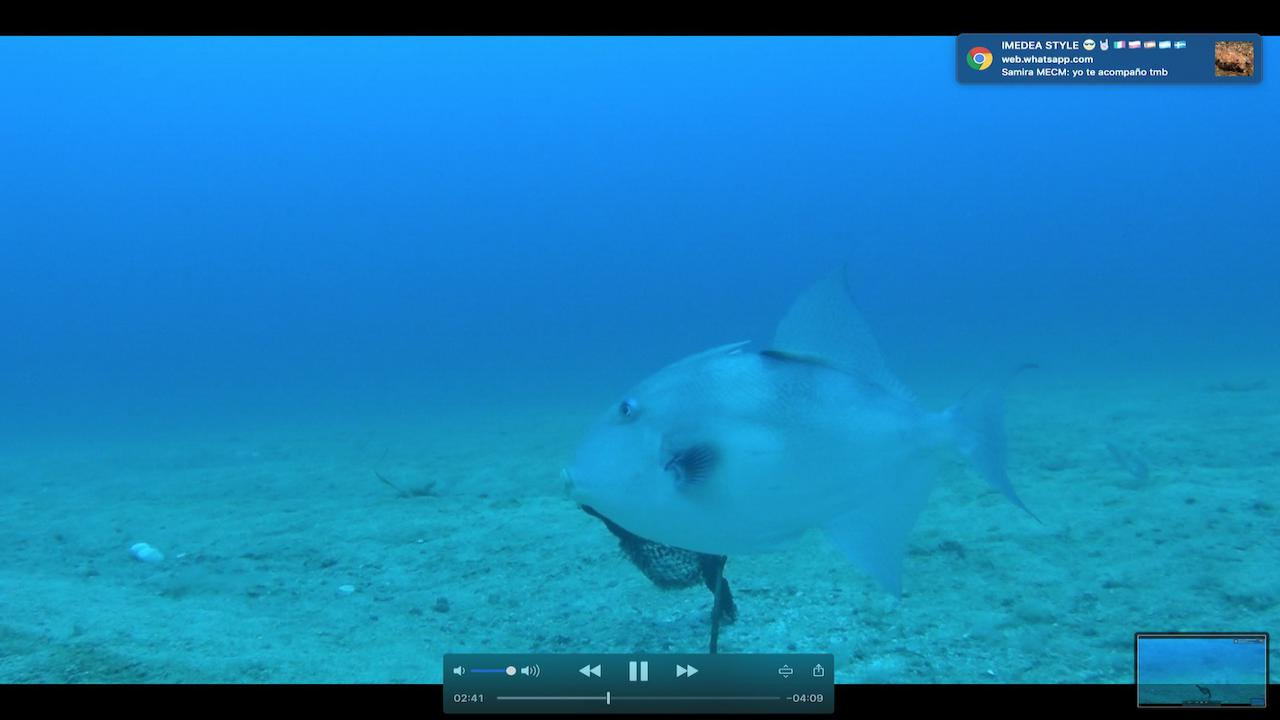balistes: (553, 251, 1046, 604)
raor: (1102, 437, 1154, 481)
